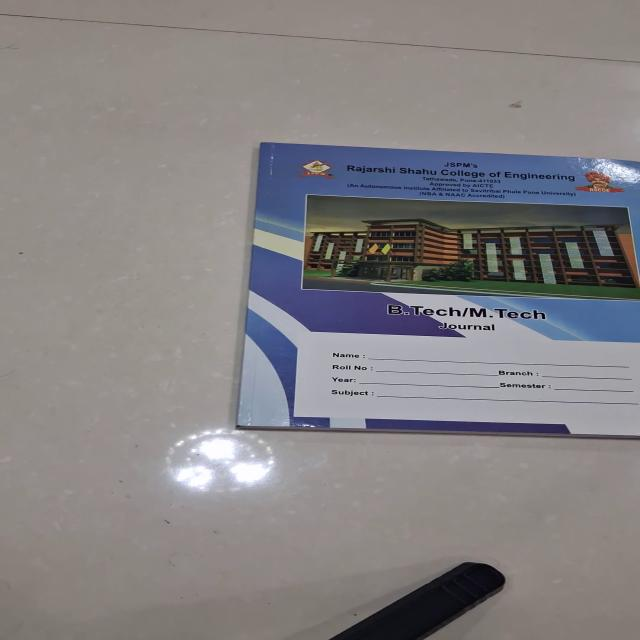paper: (234, 141, 638, 437)
